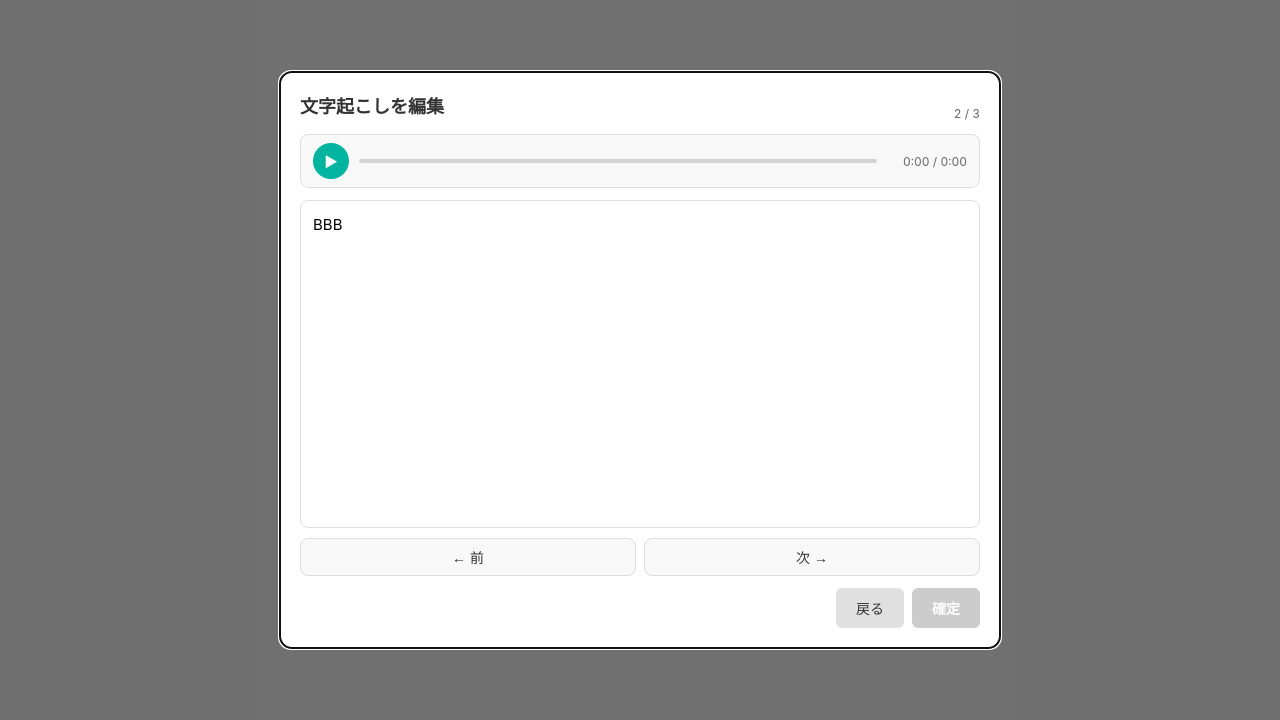
Test: VoiceEditModal — 現状の振る舞い (#379 Step 0 特性テスト) › 確定 は 直していないと押せない
Expected: the button "確定" is disabled, [912,588,980,628]
Replace the text in the text box with "x" at (640, 364), box [300,200,980,528]
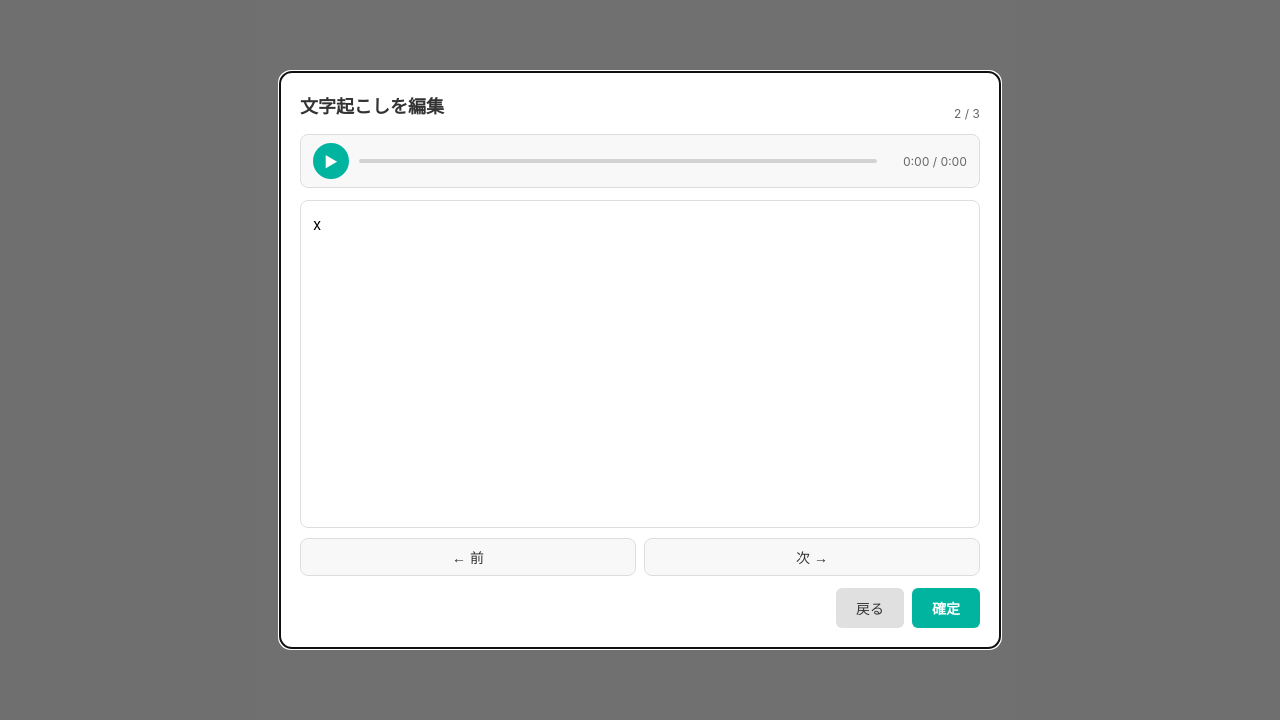
Expected: the button "確定" is enabled, [912,588,980,628]
